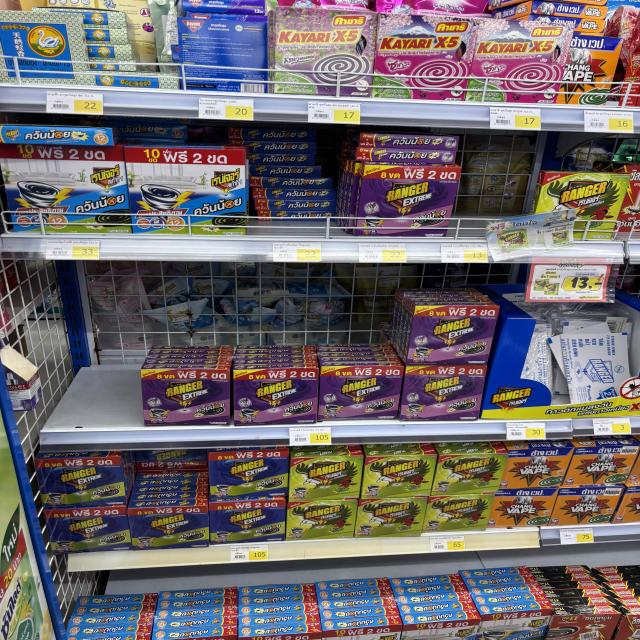empty_shelf: (248, 148, 350, 236), (41, 350, 146, 429), (456, 161, 546, 242)
